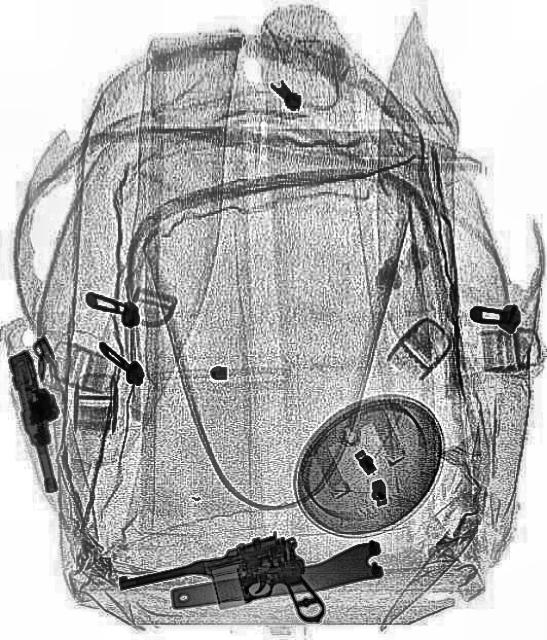Gun: (138, 526, 316, 638), (5, 345, 77, 493)
